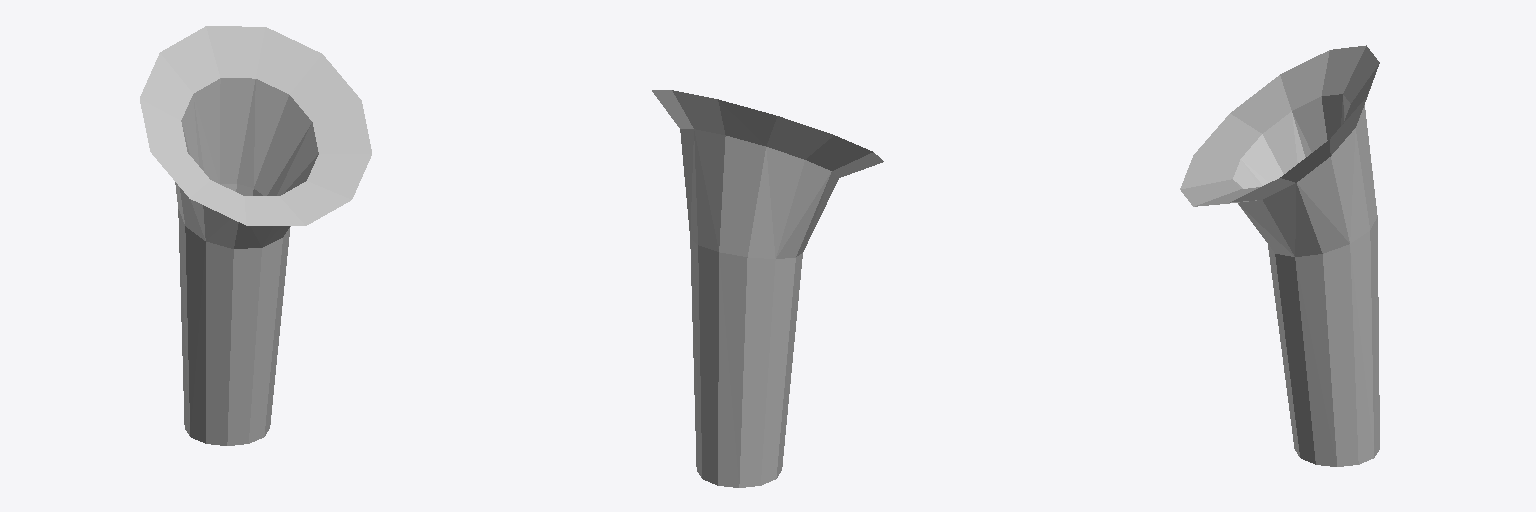
File: BaritoneSaxHorn.obj
3 views of the same model, side by side, from view 1: azimuth 30°, elevation 25°; view 2: azimuth 150°, elevation 25°; view 3: azimuth 270°, elevation 25° (orthographic).
Parts seen in each view (by area): view 1: Converted object 0(m0); view 2: Converted object 0(m0); view 3: Converted object 0(m0).
Part boxes in pixels (left/top/right/bottom): Converted object 0(m0): left=140, top=26, right=371, bottom=445; Converted object 0(m0): left=652, top=90, right=883, bottom=487; Converted object 0(m0): left=1180, top=45, right=1379, bottom=466.
Bounding box in the file's own units: 7.85 × 13.7 × 6.43.